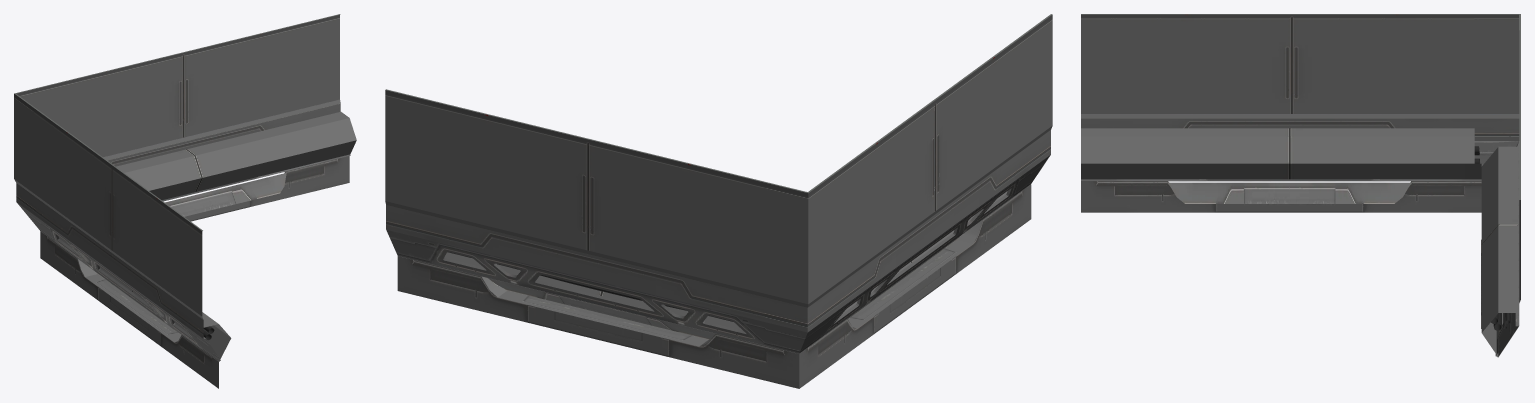
The model's file is TopCables_Corner_Square_Outer.glb.
The picture shows the model from 3 angles, left to right: view 1: azimuth 30°, elevation 25°; view 2: azimuth 150°, elevation 25°; view 3: azimuth 270°, elevation 25°; orthographic projection. The views are drawn at different scales.
Parts seen in each view (by area): view 1: TopCables_Corner_Square_Outer; view 2: TopCables_Corner_Square_Outer; view 3: TopCables_Corner_Square_Outer.
Part boxes in pixels (x1,y1,x2,y2): TopCables_Corner_Square_Outer: [14, 14, 356, 388]; TopCables_Corner_Square_Outer: [385, 14, 1052, 388]; TopCables_Corner_Square_Outer: [1081, 14, 1520, 357].
Bounding box in the file's own units: 4.22 × 2 × 4.22.
Materials: 3 (3 with a texture image).
